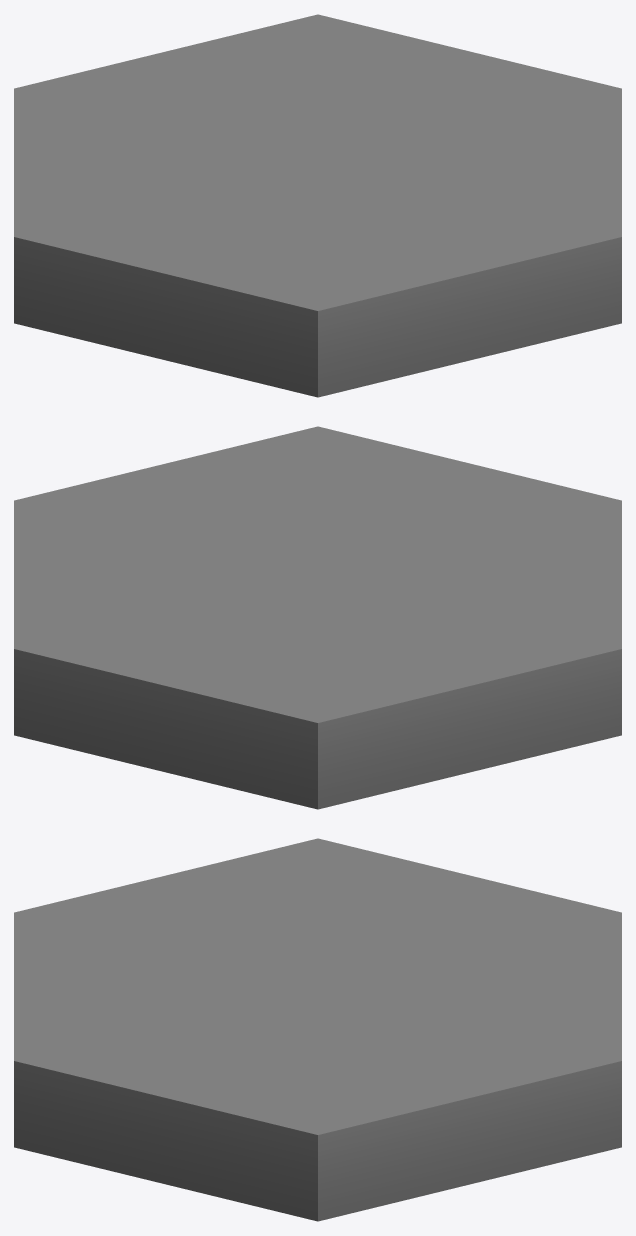
The model's file is lowpoly_spot_small_gray.fbx.
3 renders of one model, top to bottom at view 1: azimuth 30°, elevation 25°; view 2: azimuth 150°, elevation 25°; view 3: azimuth 270°, elevation 25°, orthographic.
Visible parts, largest first — view 1: lowpoly_spot_small_gray; view 2: lowpoly_spot_small_gray; view 3: lowpoly_spot_small_gray.
Boxes of the visible parts, x1,y1,x2,y2 form: lowpoly_spot_small_gray: (14, 14, 621, 397); lowpoly_spot_small_gray: (14, 426, 621, 809); lowpoly_spot_small_gray: (14, 838, 621, 1221).
Bounding box in the file's own units: 165 × 22.37 × 143.
Materials: 1 (1 with a texture image).
